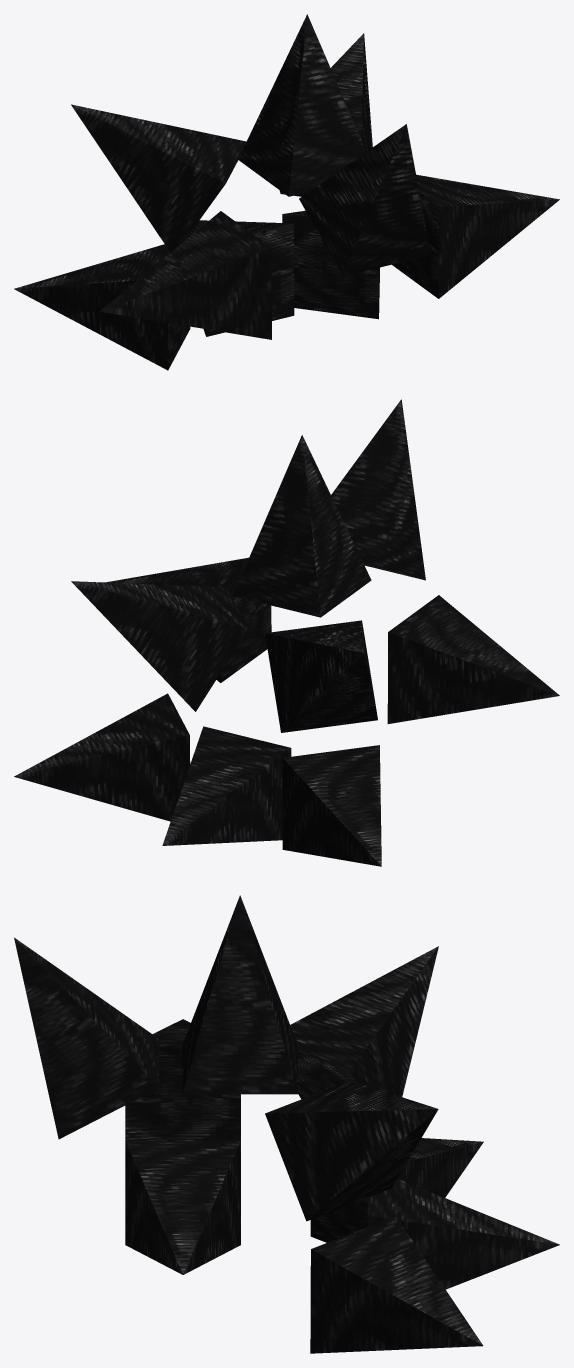
File: hair_sao_male_04.dae
3 views of the same model, one above another, from view 1: azimuth 30°, elevation 25°; view 2: azimuth 150°, elevation 25°; view 3: azimuth 270°, elevation 25° (orthographic). The views are drawn at different scales.
Parts seen in each view (by area): view 1: a_hair_male_sao_04; view 2: a_hair_male_sao_04; view 3: a_hair_male_sao_04.
Part boxes in pixels (box(x1,y1,x2,y2)): a_hair_male_sao_04: box(14, 14, 559, 370); a_hair_male_sao_04: box(14, 399, 559, 866); a_hair_male_sao_04: box(14, 895, 559, 1353).
Size of the model in its own units: 0.666 by 0.6013 by 0.4878.
